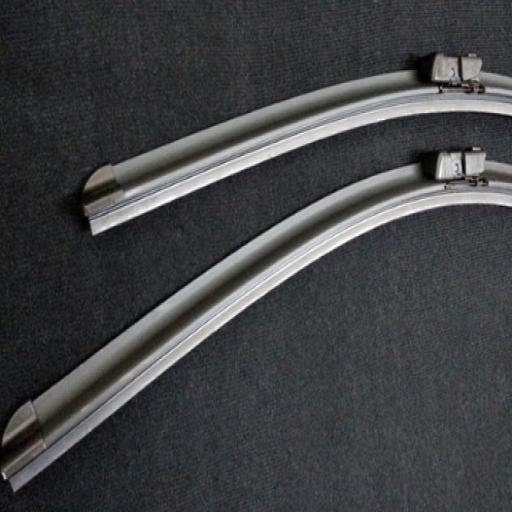front_wiper: (0, 0, 510, 510)
